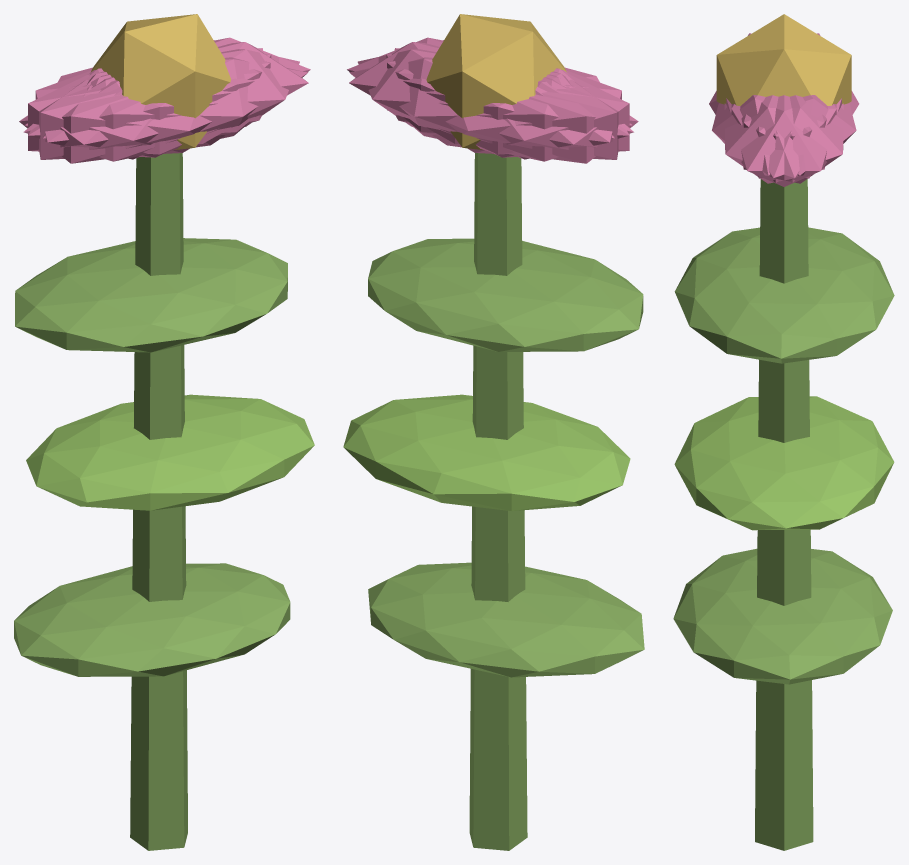
File: aglaia-odorata.glb
3 views of the same model, side by side, from view 1: azimuth 30°, elevation 25°; view 2: azimuth 150°, elevation 25°; view 3: azimuth 270°, elevation 25° (orthographic).
Visible parts, largest first — view 1: stem, leaf1, leaf2, leaf0, center, petal1, petal6, petal2, petal5, petal7, petal0, petal4 (+2 smaller); view 2: stem, leaf1, leaf2, leaf0, center, petal8, petal3, petal7, petal4, petal2, petal0, petal5 (+2 smaller); view 3: stem, leaf1, leaf2, leaf0, center, petal0, petal4, petal5, petal8, petal1.
Part boxes in pixels (left/top/right/bottom): stem: left=130, top=153, right=187, bottom=850; leaf1: left=26, top=394, right=314, bottom=510; leaf2: left=15, top=238, right=287, bottom=352; leaf0: left=14, top=563, right=290, bottom=676; center: left=91, top=14, right=230, bottom=149; petal1: left=23, top=57, right=307, bottom=161; petal6: left=19, top=70, right=224, bottom=163; petal2: left=39, top=48, right=262, bottom=159; petal5: left=43, top=49, right=299, bottom=154; petal7: left=28, top=54, right=271, bottom=157; petal0: left=90, top=42, right=308, bottom=144; petal4: left=25, top=37, right=310, bottom=135; stem: left=469, top=153, right=527, bottom=850; leaf1: left=343, top=394, right=630, bottom=511; leaf2: left=368, top=238, right=643, bottom=351; leaf0: left=368, top=562, right=644, bottom=677; center: left=426, top=14, right=566, bottom=149; petal8: left=349, top=57, right=633, bottom=161; petal3: left=432, top=70, right=638, bottom=163; petal7: left=394, top=48, right=618, bottom=159; petal4: left=357, top=49, right=614, bottom=154; petal2: left=386, top=54, right=629, bottom=157; petal0: left=349, top=42, right=566, bottom=144; petal5: left=347, top=37, right=632, bottom=135; stem: left=755, top=179, right=813, bottom=850; leaf1: left=674, top=396, right=894, bottom=530; leaf2: left=674, top=227, right=894, bottom=363; leaf0: left=673, top=548, right=892, bottom=684; center: left=716, top=14, right=851, bottom=105; petal0: left=726, top=95, right=841, bottom=186; petal4: left=731, top=95, right=843, bottom=183; petal5: left=724, top=95, right=836, bottom=183; petal8: left=741, top=95, right=856, bottom=175; petal1: left=712, top=95, right=826, bottom=175.
Size of the model in its own units: 0.1498 by 0.4044 by 0.1005.
